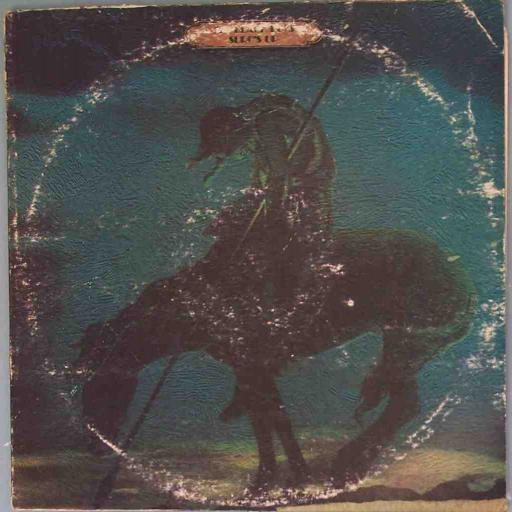horse: (70, 223, 479, 489)
